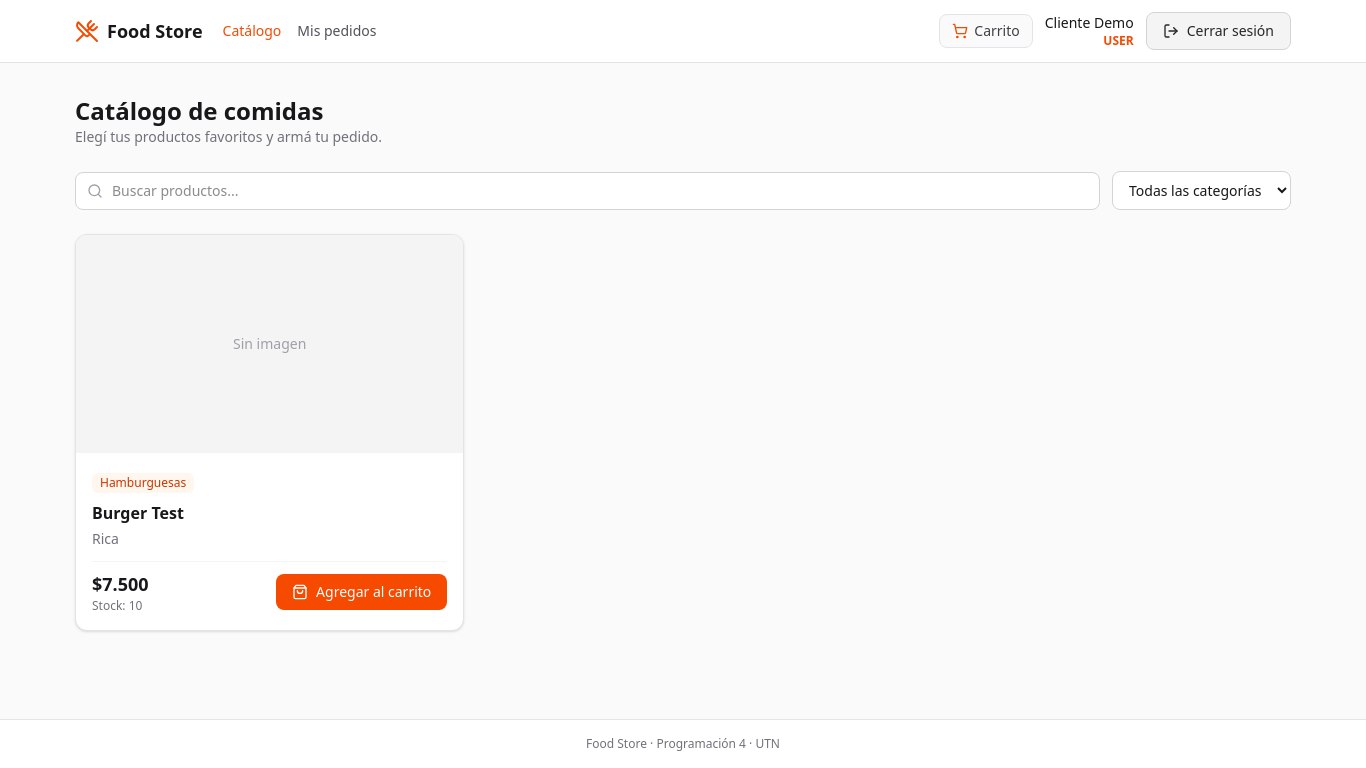
it: Flujo general Frontend (Catálogo -> Carrito -> Checkout) › permite agregar desde catálogo, navegar al carrito y confirmar pedido
The width and height of the screenshot is (1366, 768).
Check: the heading "Burger Test" is shown, box [92, 502, 184, 524]
Click the button "Agregar al carrito" at (362, 592), box [276, 574, 447, 610]
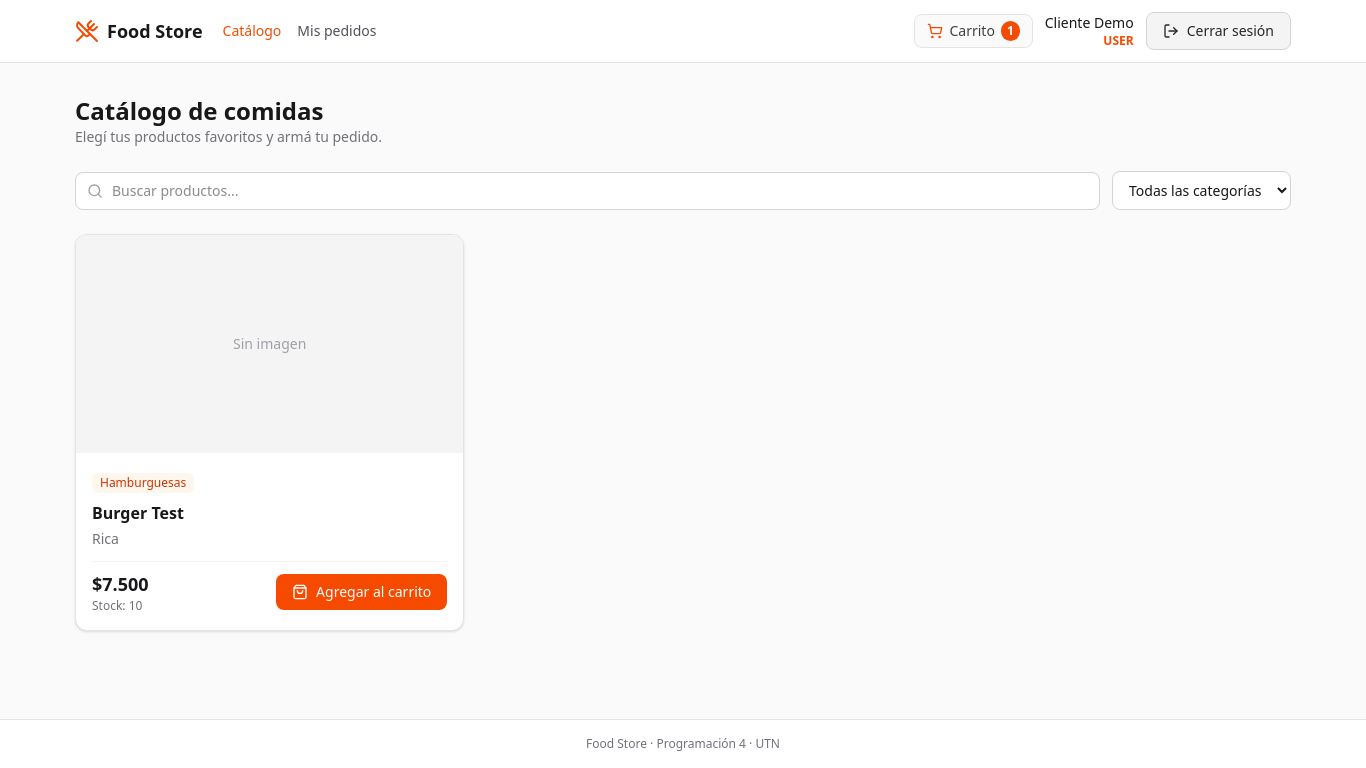
Click the link "Carrito 1" at (974, 31), box [914, 14, 1033, 48]
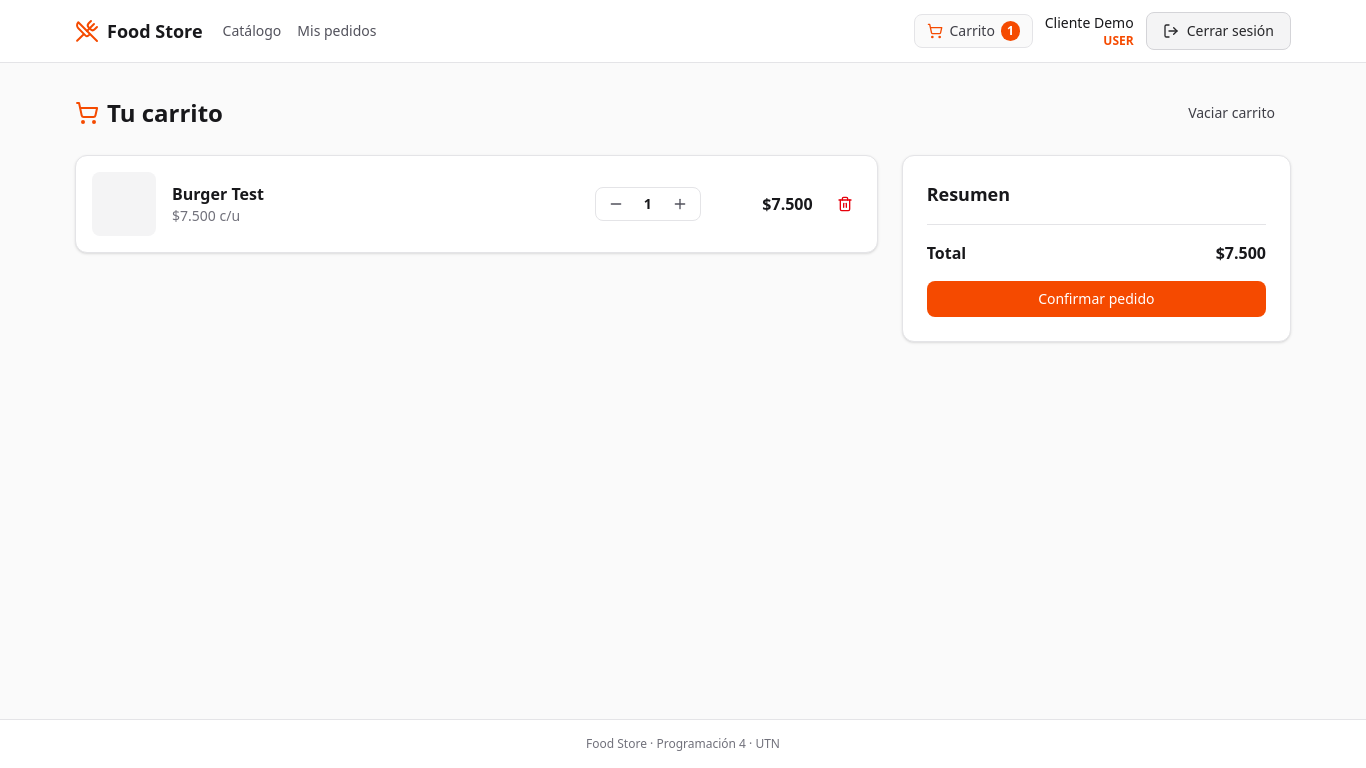
Check: the heading "Tu carrito" is shown, box [75, 97, 223, 129]
Click the button "Confirmar pedido" at (1096, 299), box [927, 281, 1266, 317]
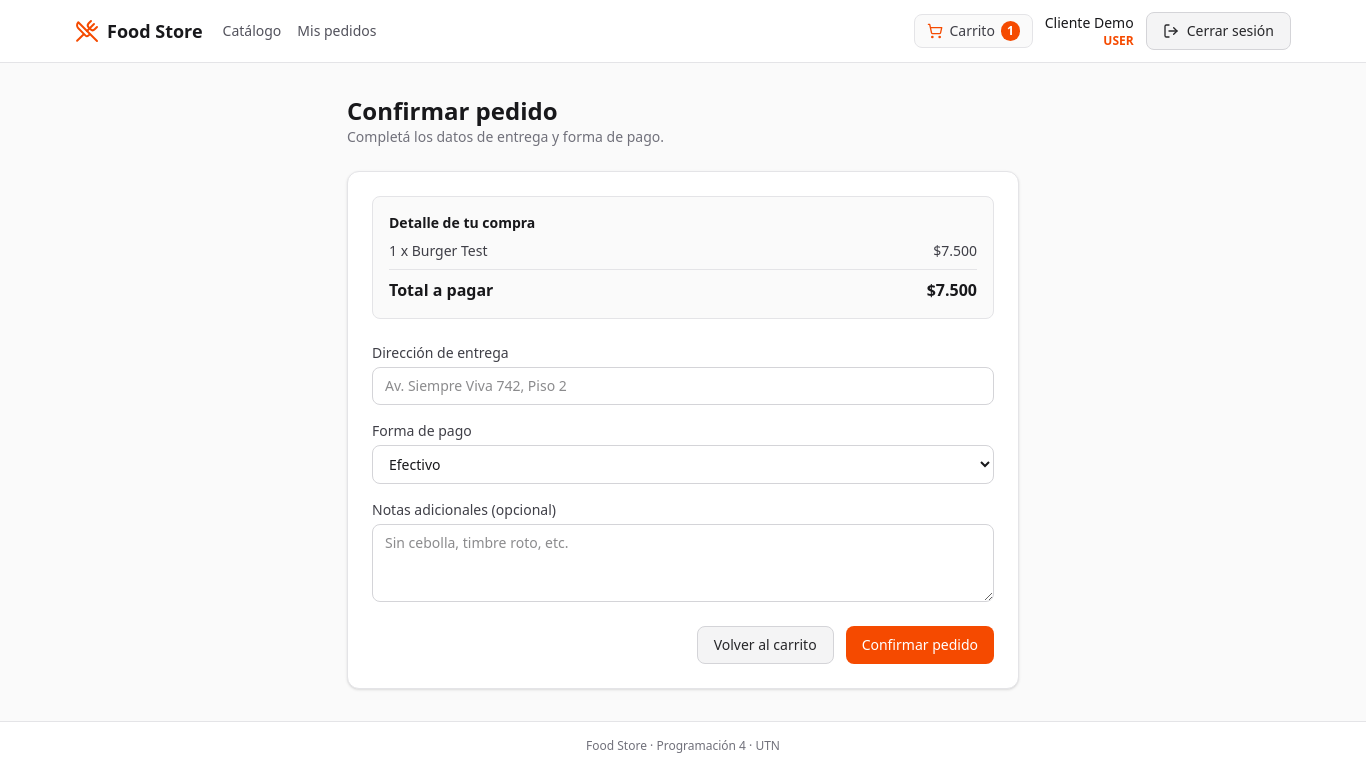
Check: the field labelled "Dirección de entrega" is shown
Type "Av. Mayo 1234" into the field labelled "Dirección de entrega" at (683, 386), box [372, 367, 994, 405]
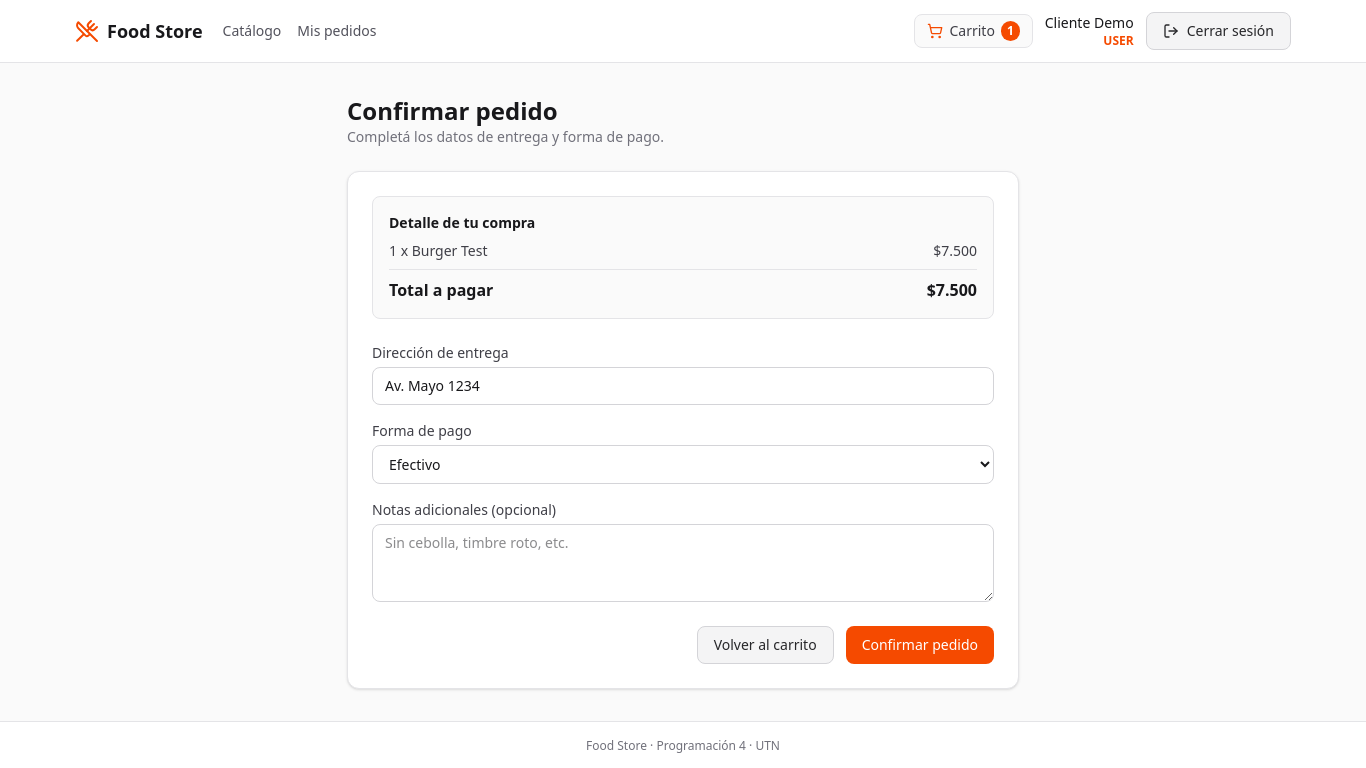
Click the button "Confirmar pedido" at (920, 645), box [846, 626, 994, 664]
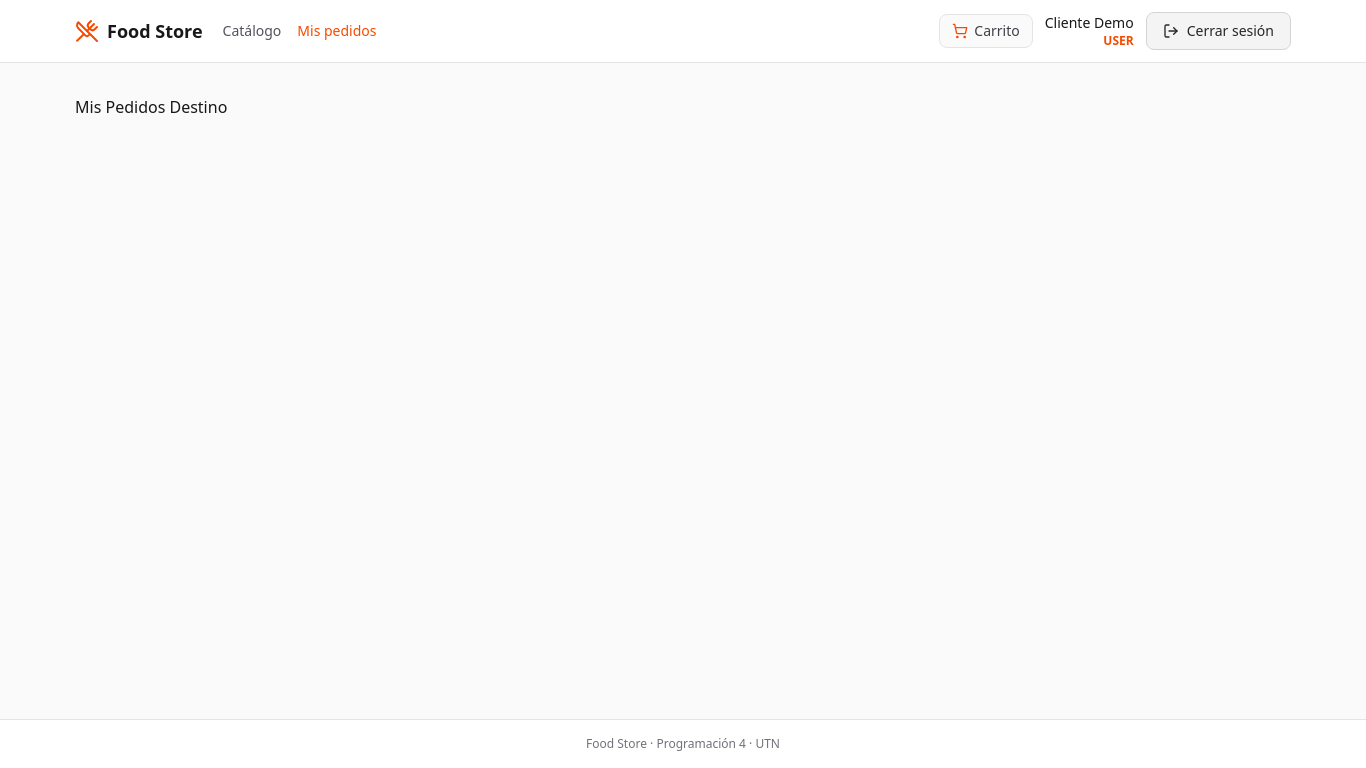
Check: the text "Mis Pedidos Destino" is shown, box [75, 96, 227, 118]
